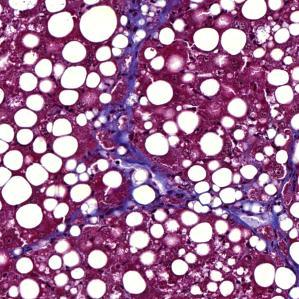fibrosis: (91, 83, 153, 175)
